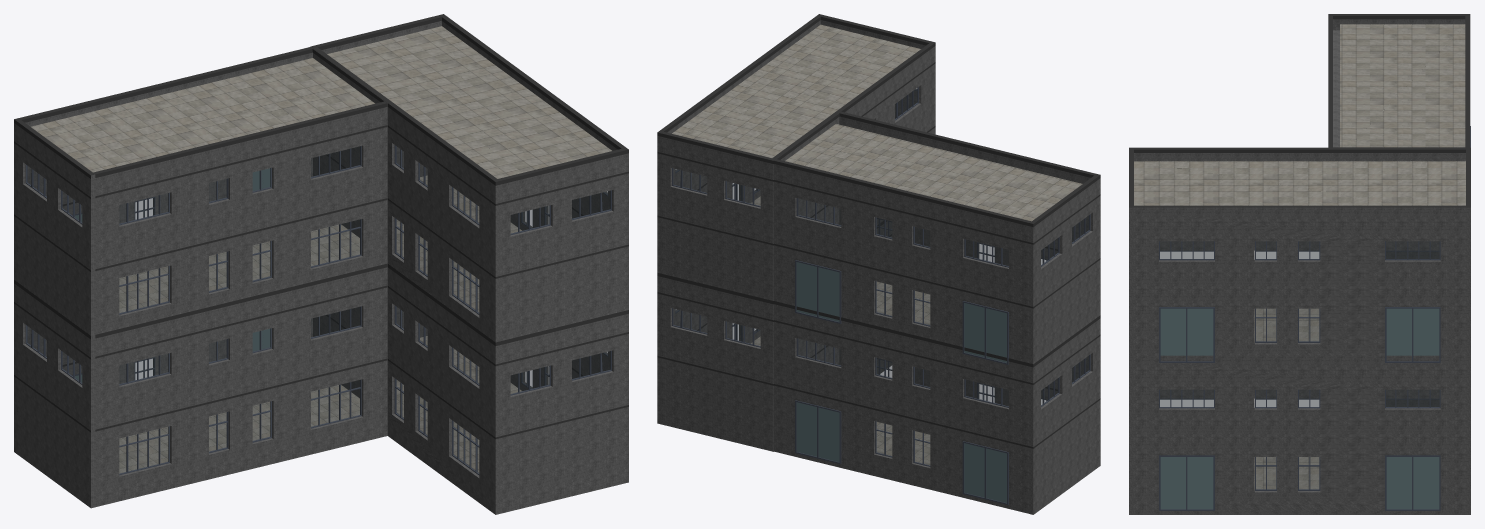
The picture shows the model from 3 angles, left to right: view 1: azimuth 30°, elevation 25°; view 2: azimuth 150°, elevation 25°; view 3: azimuth 270°, elevation 25°; orthographic projection. The views are drawn at different scales.
Parts seen in each view (by area): view 1: Obj3d66-1059711-1254-540, Obj3d66-1059711-1294-653, Obj3d66-1059711-1220-631, Obj3d66-1059711-1257-411, Obj3d66-1059711-1261-610, Obj3d66-1059711-1277-790, Obj3d66-1059711-1217-171, Obj3d66-1059711-1258-475, Obj3d66-1059711-1240-619, Obj3d66-1059711-1281-484, Obj3d66-1059711-1251-128, Obj3d66-1059711-1291-899 (+27 smaller); view 2: Obj3d66-1059711-1249-489, Obj3d66-1059711-1289-524, Obj3d66-1059711-1221-73, Obj3d66-1059711-1257-411, Obj3d66-1059711-1262-298, Obj3d66-1059711-1277-790, Obj3d66-1059711-1240-619, Obj3d66-1059711-1281-484, Obj3d66-1059711-1245-366, Obj3d66-1059711-1285-724, Obj3d66-1059711-1296-5, Obj3d66-1059711-1258-475 (+23 smaller); view 3: Obj3d66-1059711-1230-715, Obj3d66-1059711-1270-978, Obj3d66-1059711-1277-790, Obj3d66-1059711-1257-411, Obj3d66-1059711-1226-81, Obj3d66-1059711-1266-576, Obj3d66-1059711-1258-475, Obj3d66-1059711-1269-618, Obj3d66-1059711-1276-154, Obj3d66-1059711-1229-777, Obj3d66-1059711-1296-5, Obj3d66-1059711-1217-171 (+12 smaller).
Boxes of the visible parts, <box> form: Obj3d66-1059711-1254-540: <box>95,267,387,507</box>; Obj3d66-1059711-1294-653: <box>95,107,387,334</box>; Obj3d66-1059711-1220-631: <box>495,313,628,514</box>; Obj3d66-1059711-1257-411: <box>327,26,611,178</box>; Obj3d66-1059711-1261-610: <box>495,153,628,352</box>; Obj3d66-1059711-1277-790: <box>31,58,374,172</box>; Obj3d66-1059711-1217-171: <box>387,267,495,514</box>; Obj3d66-1059711-1258-475: <box>387,107,495,341</box>; Obj3d66-1059711-1240-619: <box>14,283,95,508</box>; Obj3d66-1059711-1281-484: <box>14,123,95,335</box>; Obj3d66-1059711-1251-128: <box>119,307,359,473</box>; Obj3d66-1059711-1291-899: <box>119,146,359,312</box>; Obj3d66-1059711-1249-489: <box>774,305,1029,513</box>; Obj3d66-1059711-1289-524: <box>774,164,1029,373</box>; Obj3d66-1059711-1221-73: <box>657,276,773,451</box>; Obj3d66-1059711-1257-411: <box>672,24,920,157</box>; Obj3d66-1059711-1262-298: <box>657,136,773,300</box>; Obj3d66-1059711-1277-790: <box>785,124,1082,221</box>; Obj3d66-1059711-1240-619: <box>1029,318,1100,514</box>; Obj3d66-1059711-1281-484: <box>1029,178,1100,374</box>; Obj3d66-1059711-1245-366: <box>796,402,1006,502</box>; Obj3d66-1059711-1285-724: <box>796,262,1006,362</box>; Obj3d66-1059711-1296-5: <box>774,111,1100,227</box>; Obj3d66-1059711-1258-475: <box>773,46,935,300</box>; Obj3d66-1059711-1230-715: <box>1129,355,1470,514</box>; Obj3d66-1059711-1270-978: <box>1129,207,1470,366</box>; Obj3d66-1059711-1277-790: <box>1340,24,1465,147</box>; Obj3d66-1059711-1257-411: <box>1134,161,1465,205</box>; Obj3d66-1059711-1226-81: <box>1160,457,1439,509</box>; Obj3d66-1059711-1266-576: <box>1160,308,1439,355</box>; Obj3d66-1059711-1258-475: <box>1134,153,1465,250</box>; Obj3d66-1059711-1269-618: <box>1160,241,1439,341</box>; Obj3d66-1059711-1276-154: <box>1129,147,1470,207</box>; Obj3d66-1059711-1229-777: <box>1160,390,1439,489</box>; Obj3d66-1059711-1296-5: <box>1328,14,1470,147</box>; Obj3d66-1059711-1217-171: <box>1160,389,1439,398</box>.
Size of the model in its own units: 25.1 by 18.54 by 18.7.
Materials: 6 (2 with a texture image).
